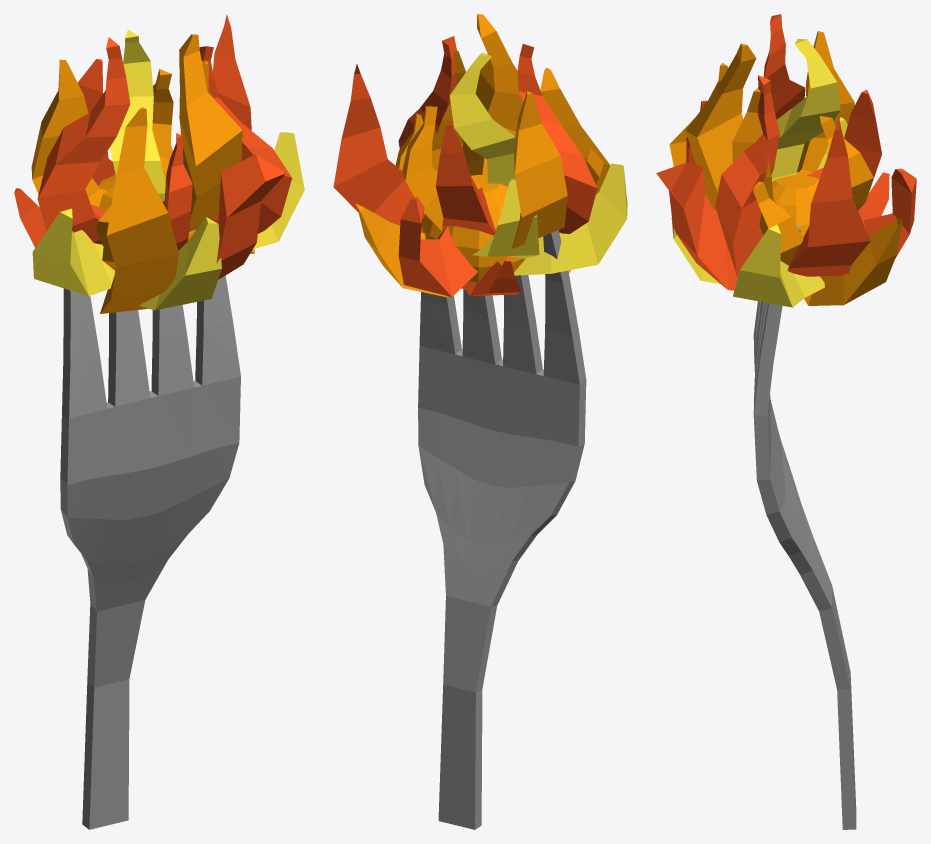
File: FireForkTop.glb
3 views of the same model, side by side, from view 1: azimuth 30°, elevation 25°; view 2: azimuth 150°, elevation 25°; view 3: azimuth 270°, elevation 25° (orthographic). The views are drawn at different scales.
Parts seen in each view (by area): view 1: Node, group702594773.001, group167038055, group702594773, group813435182, group1012330263, group1012330263.001, group1602184737, group1762201146, group167038055.001, group217930424, group1190332235 (+5 smaller); view 2: Node, group217930424, group1762201146, group1012330263, group1501086520, group1602184737, group167038055, group702594773, group740134887, group1374064128, group2112811785, group300155229 (+5 smaller); view 3: Node, group217930424, group167038055.001, group813435182, group702594773, group1602184737, group1012330263.002, group1746021426, group167038055, group740134887, group1762201146, group1501086520 (+7 smaller).
Boxes of the visible parts, bbox=[...] form: Node: bbox=[60, 275, 240, 829]; group702594773.001: bbox=[100, 107, 178, 313]; group167038055: bbox=[37, 37, 130, 244]; group702594773: bbox=[165, 34, 242, 232]; group813435182: bbox=[196, 154, 285, 279]; group1012330263: bbox=[32, 208, 114, 296]; group1012330263.001: bbox=[139, 217, 221, 310]; group1602184737: bbox=[109, 29, 165, 201]; group1762201146: bbox=[31, 59, 107, 206]; group167038055.001: bbox=[199, 46, 291, 233]; group217930424: bbox=[213, 14, 251, 130]; group1190332235: bbox=[163, 133, 192, 250]; Node: bbox=[418, 230, 586, 829]; group217930424: bbox=[333, 64, 424, 232]; group1762201146: bbox=[511, 91, 567, 248]; group1012330263: bbox=[514, 163, 627, 275]; group1501086520: bbox=[398, 196, 477, 296]; group1602184737: bbox=[449, 52, 515, 186]; group167038055: bbox=[517, 44, 597, 233]; group702594773: bbox=[462, 14, 523, 175]; group740134887: bbox=[435, 124, 495, 235]; group1374064128: bbox=[422, 174, 525, 289]; group2112811785: bbox=[402, 106, 443, 230]; group300155229: bbox=[472, 179, 539, 258]; Node: bbox=[753, 226, 856, 829]; group217930424: bbox=[787, 118, 870, 276]; group167038055.001: bbox=[715, 75, 779, 277]; group813435182: bbox=[656, 162, 737, 290]; group702594773: bbox=[685, 43, 773, 211]; group1602184737: bbox=[771, 39, 840, 181]; group1012330263.002: bbox=[733, 224, 824, 307]; group1746021426: bbox=[804, 218, 902, 305]; group167038055: bbox=[763, 14, 805, 119]; group740134887: bbox=[806, 89, 881, 189]; group1762201146: bbox=[797, 31, 854, 173]; group1501086520: bbox=[862, 168, 916, 258].
Bounding box in the file's own units: 1.31 × 3.68 × 1.1.
